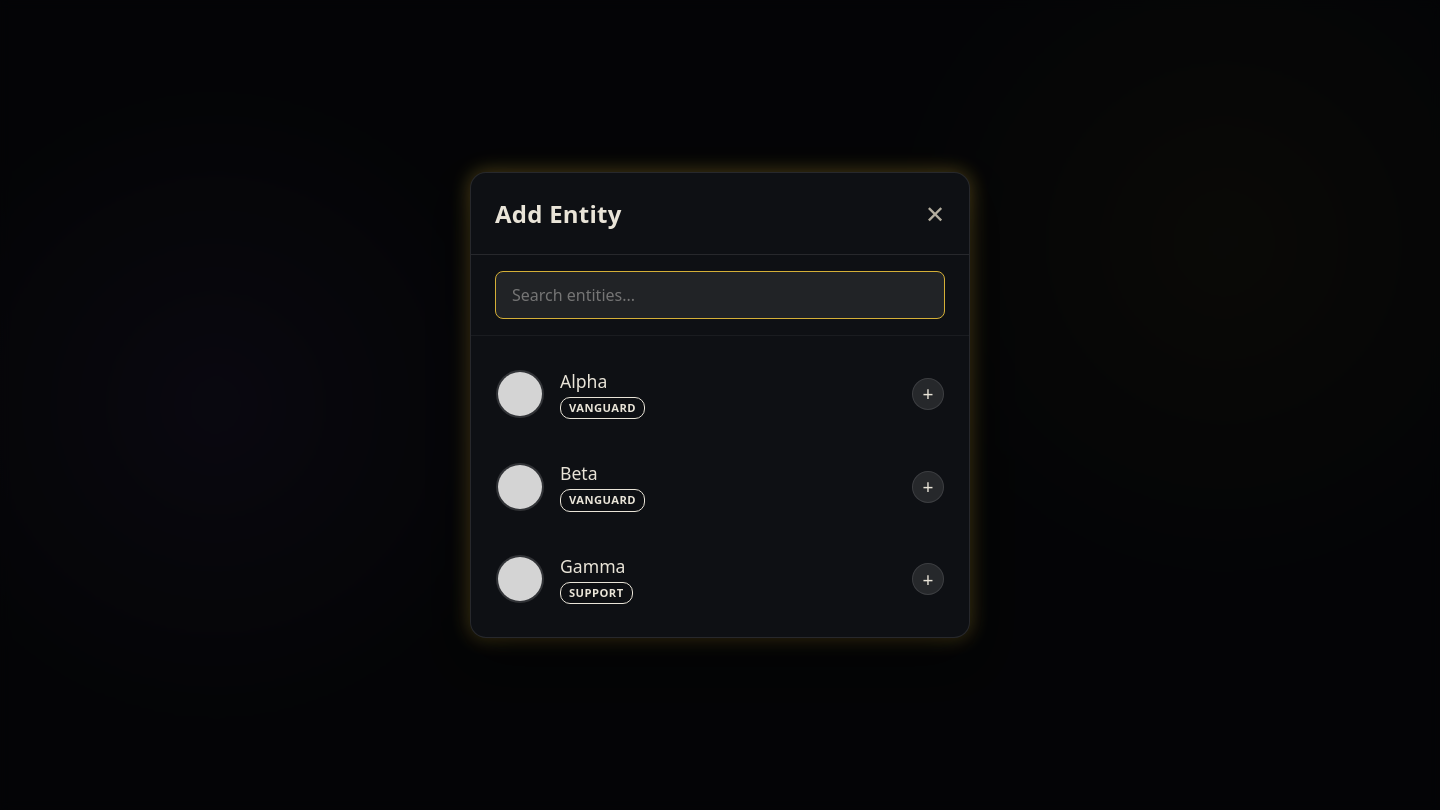
AddEntityModal › shows the empty state with the noun and search term
In the field with placeholder "Search entities...": [720, 295] box [495,271,945,319], type "zzzzzz"
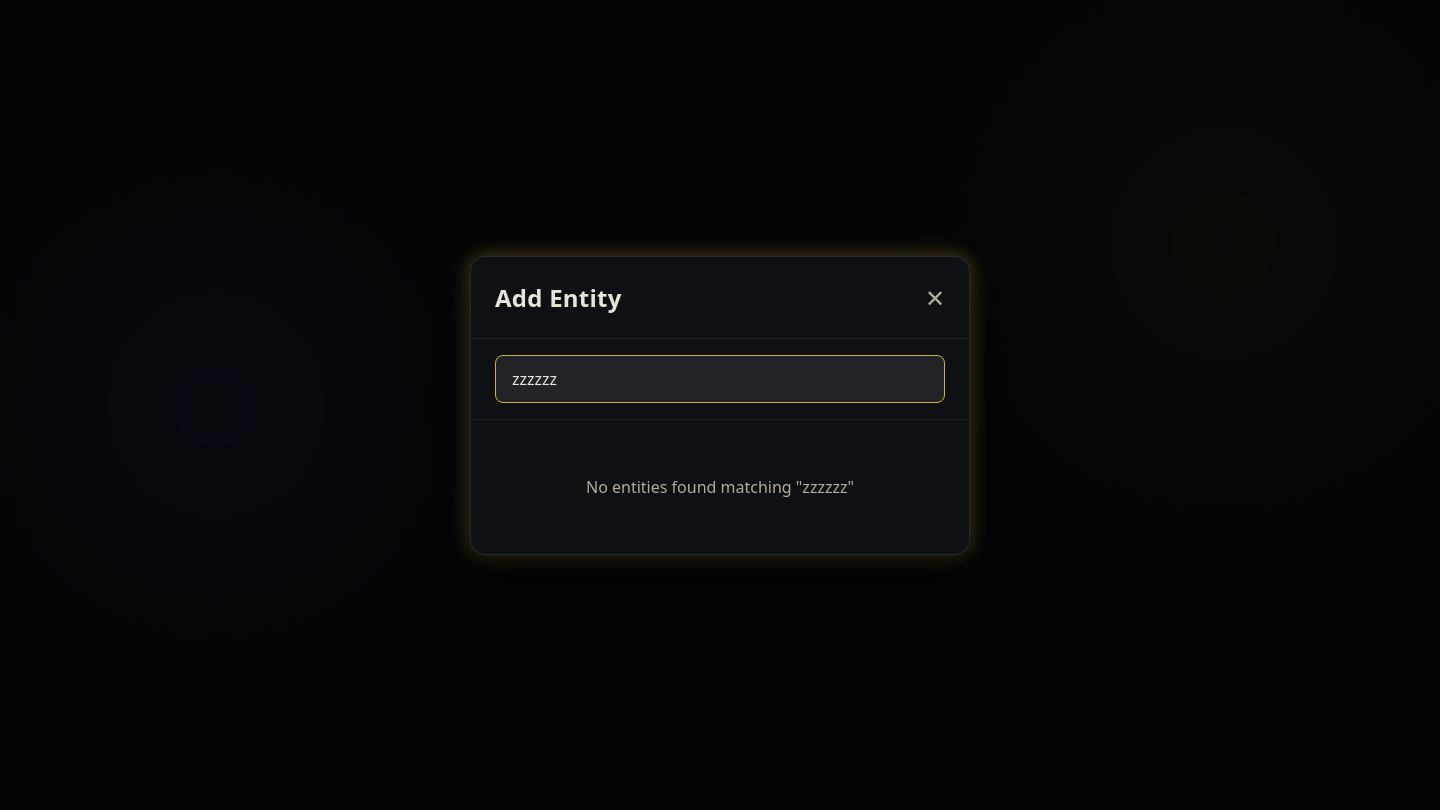
Now the text "No entities found matching \"zzzzzz\"" is shown, box [586,476,854,498]
